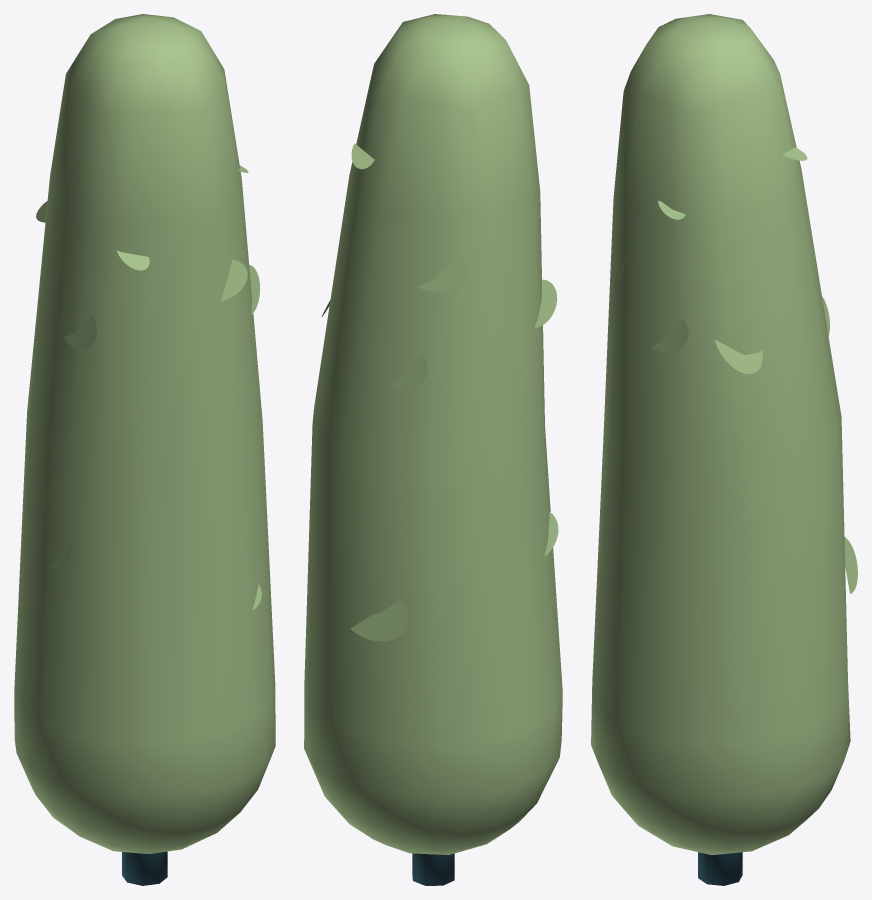
The model's file is Tree3.dae.
3 views of the same model, side by side, from view 1: azimuth 30°, elevation 25°; view 2: azimuth 150°, elevation 25°; view 3: azimuth 270°, elevation 25° (orthographic).
Parts seen in each view (by area): view 1: Tree3; view 2: Tree3; view 3: Tree3.
Part boxes in pixels (left/top/right/bottom): Tree3: left=14, top=14, right=275, bottom=885; Tree3: left=304, top=14, right=562, bottom=885; Tree3: left=591, top=14, right=857, bottom=885.
Size of the model in its own units: 1.74 by 1.79 by 6.3.
Materials: 1 (1 with a texture image).
